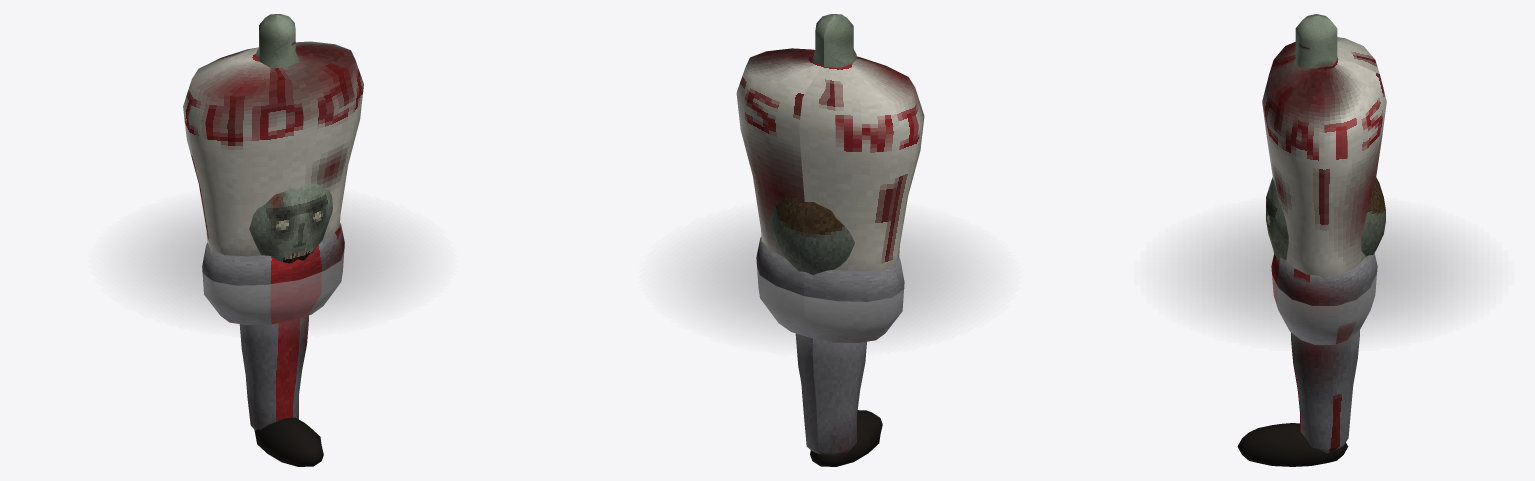
3 views of the same model, side by side, from view 1: azimuth 30°, elevation 25°; view 2: azimuth 150°, elevation 25°; view 3: azimuth 270°, elevation 25° (orthographic). The views are drawn at different scales.
Parts seen in each view (by area): view 1: spine__x__1, root__x__8, core__x__0, legL1__x__9, head__h__3, legL2__x__11, spine__x__2; view 2: spine__x__1, root__x__8, core__x__0, legL1__x__9, head__h__3, spine__x__2, legL2__x__11; view 3: root__x__8, spine__x__1, core__x__0, legL1__x__9, legL2__x__11, head__h__3, spine__x__2.
Part boxes in pixels (left/top/right/bottom): spine__x__1: left=183, top=41, right=363, bottom=256; root__x__8: left=114, top=201, right=432, bottom=328; core__x__0: left=202, top=223, right=344, bottom=324; legL1__x__9: left=239, top=315, right=308, bottom=430; head__h__3: left=249, top=184, right=332, bottom=263; legL2__x__11: left=254, top=417, right=323, bottom=466; spine__x__2: left=256, top=14, right=298, bottom=68; spine__x__1: left=736, top=48, right=924, bottom=271; root__x__8: left=665, top=214, right=995, bottom=346; core__x__0: left=756, top=237, right=904, bottom=342; legL1__x__9: left=795, top=333, right=866, bottom=456; head__h__3: left=769, top=198, right=854, bottom=274; spine__x__2: left=812, top=14, right=856, bottom=68; legL2__x__11: left=810, top=410, right=882, bottom=466; root__x__8: left=1159, top=208, right=1489, bottom=342; spine__x__1: left=1262, top=37, right=1386, bottom=279; core__x__0: left=1271, top=253, right=1377, bottom=344; legL1__x__9: left=1291, top=330, right=1359, bottom=453; legL2__x__11: left=1237, top=423, right=1348, bottom=466; head__h__3: left=1266, top=177, right=1385, bottom=260; spine__x__2: left=1295, top=14, right=1337, bottom=68.
Bounding box in the file's own units: 0.8854 × 1.1 × 0.8854.
6 materials, 5 textured.
